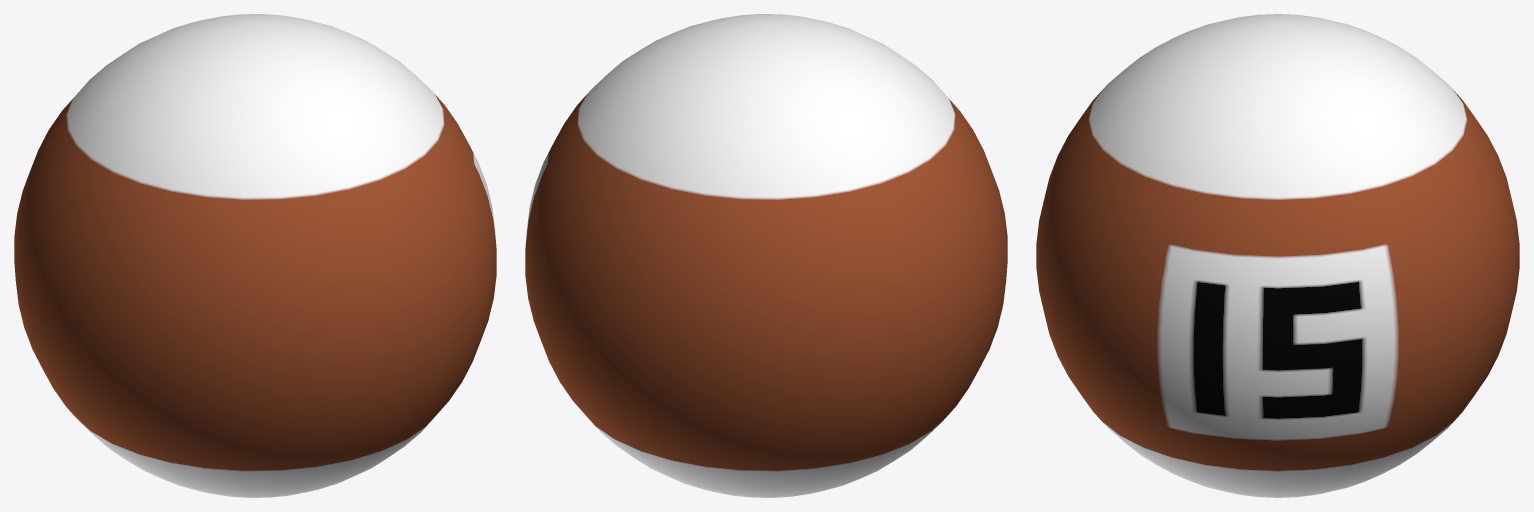
File: textured_sphere_smooth15.obj
The picture shows the model from 3 angles, left to right: view 1: azimuth 30°, elevation 25°; view 2: azimuth 150°, elevation 25°; view 3: azimuth 270°, elevation 25°; orthographic projection.
Visible parts, largest first — view 1: Sphere_Sphere.001; view 2: Sphere_Sphere.001; view 3: Sphere_Sphere.001.
Part boxes in pixels (<box>): Sphere_Sphere.001: <box>14,14,496,497</box>; Sphere_Sphere.001: <box>525,14,1007,497</box>; Sphere_Sphere.001: <box>1036,14,1519,497</box>.
Size of the model in its own units: 2 by 2 by 2.
